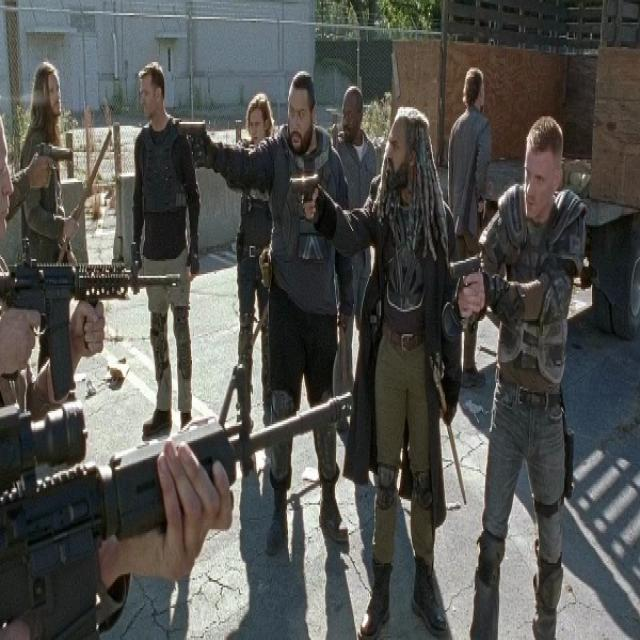rifle: (1, 374, 362, 640), (1, 234, 185, 395)
